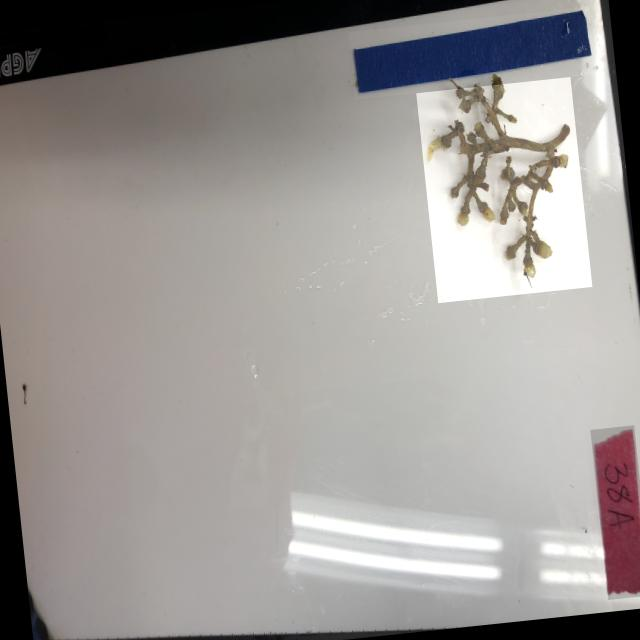index: (588, 424, 640, 599)
measure_label: (347, 6, 595, 100)
rachis_cluster: (414, 65, 591, 302)
